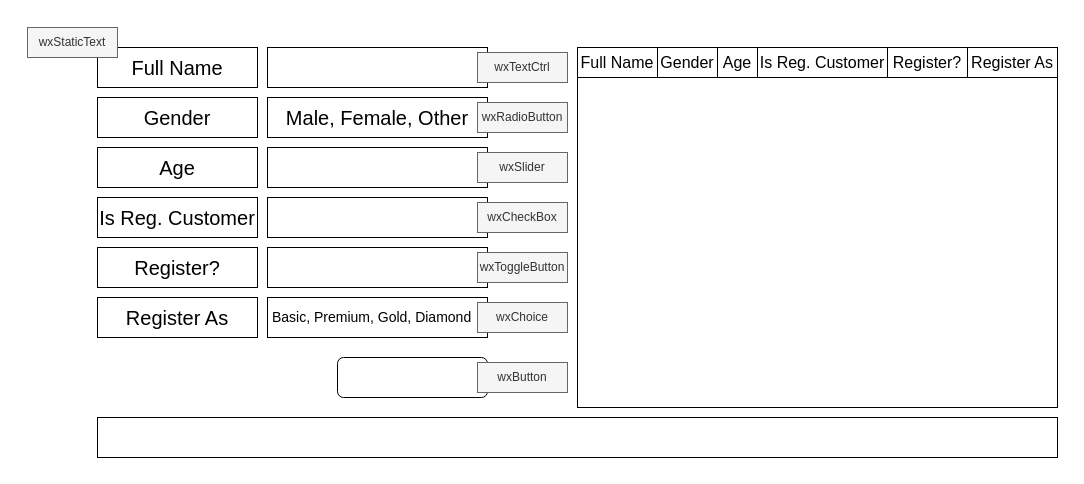
Some shapes in this 1084 by 484 pixel diagram are drawn without their labels. Each missing label, with the centre of its shape:
"Add Data" goes at (412,377).
"Status Bar" goes at (577,437).
